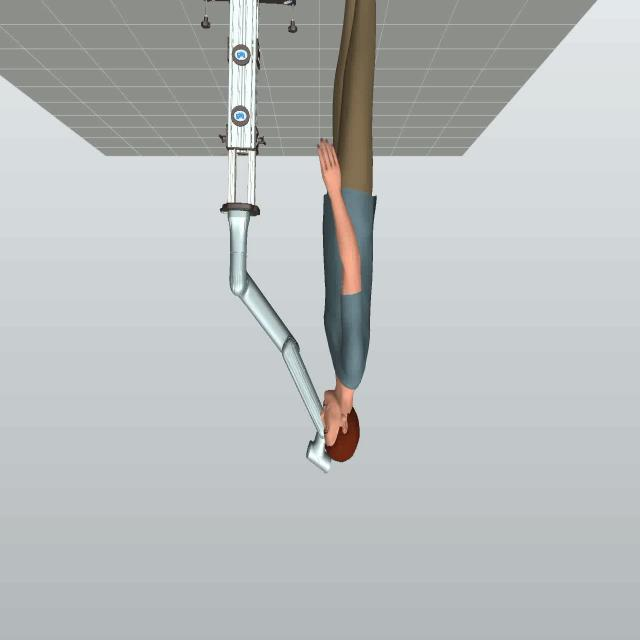human: (316, 1, 378, 464)
robot: (213, 193, 337, 476)
